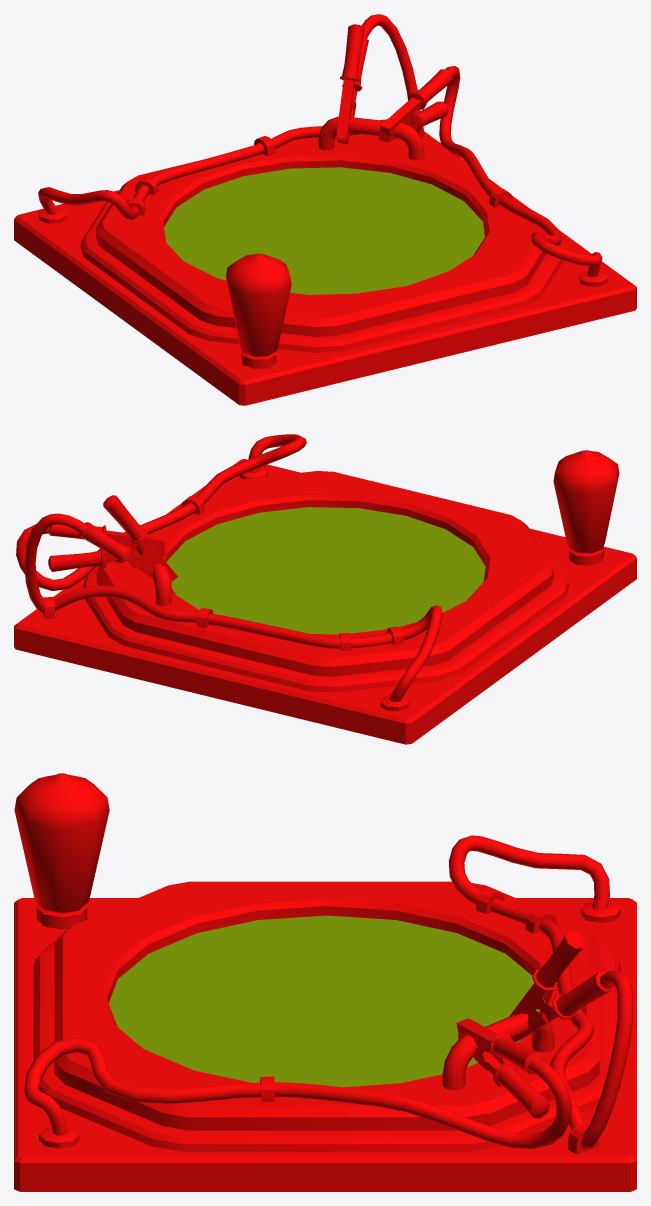
The model's file is Téléporteur.FBX.
3 views of the same model, one above another, from view 1: azimuth 30°, elevation 25°; view 2: azimuth 150°, elevation 25°; view 3: azimuth 270°, elevation 25° (orthographic). The views are drawn at different scales.
Parts seen in each view (by area): view 1: Téléporteur, Vortex; view 2: Téléporteur, Vortex; view 3: Téléporteur, Vortex.
Part boxes in pixels (x1,y1,x2,y2): Téléporteur: (14, 14, 636, 405); Vortex: (164, 167, 484, 294); Téléporteur: (14, 434, 636, 744); Vortex: (166, 507, 485, 634); Téléporteur: (14, 773, 636, 1191); Vortex: (109, 915, 544, 1087).
Size of the model in its own units: 130 by 123 by 45.54.
